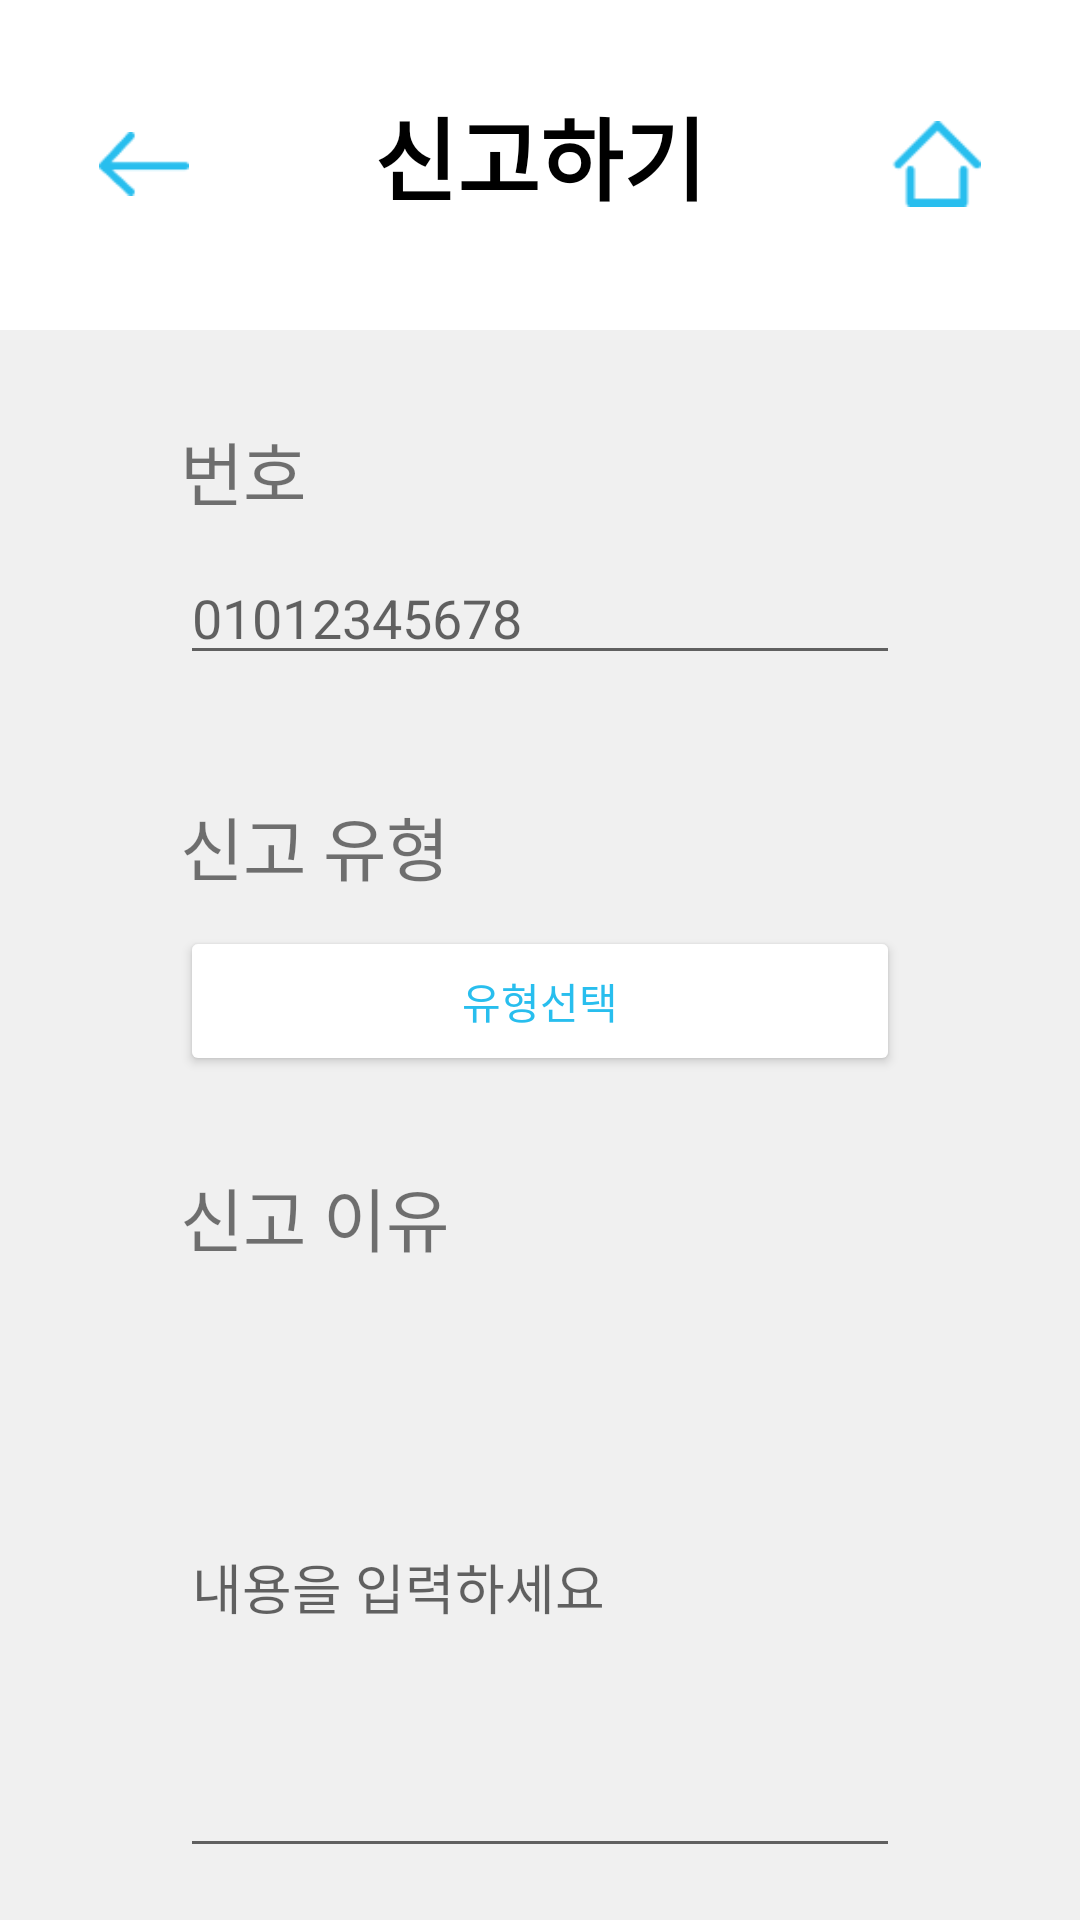

Locate icon controls on the screen. Image size 1080x1920, boxes as bbox(x1, y1, x2, y2).
backbtn: bbox(99, 132, 189, 196)
homebtn: bbox(893, 121, 981, 207)
